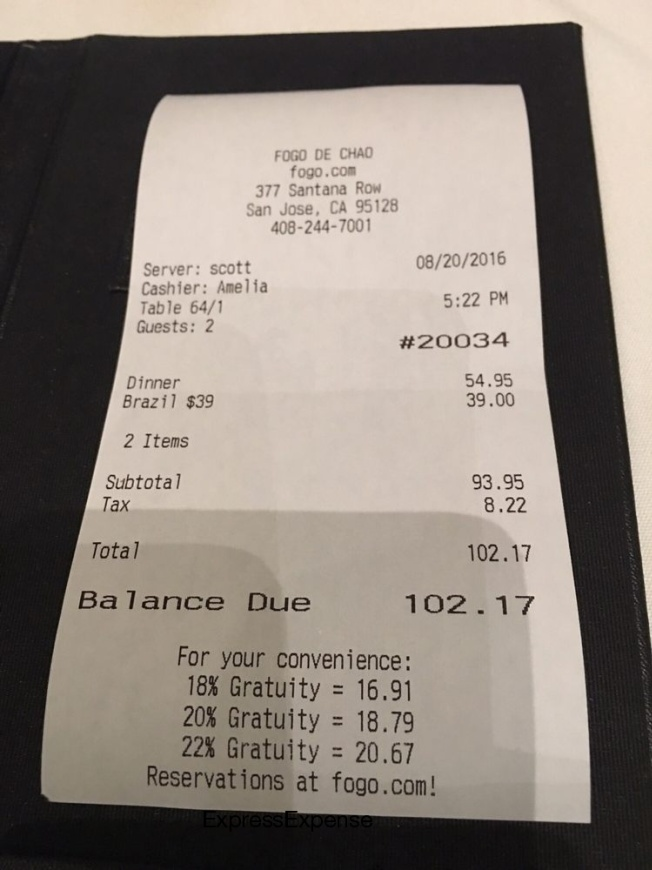Additional details: (134, 632, 469, 810)
Purchase summary: (73, 240, 568, 629)
Receipt: (38, 81, 593, 829)
Shop details: (238, 135, 404, 233)
